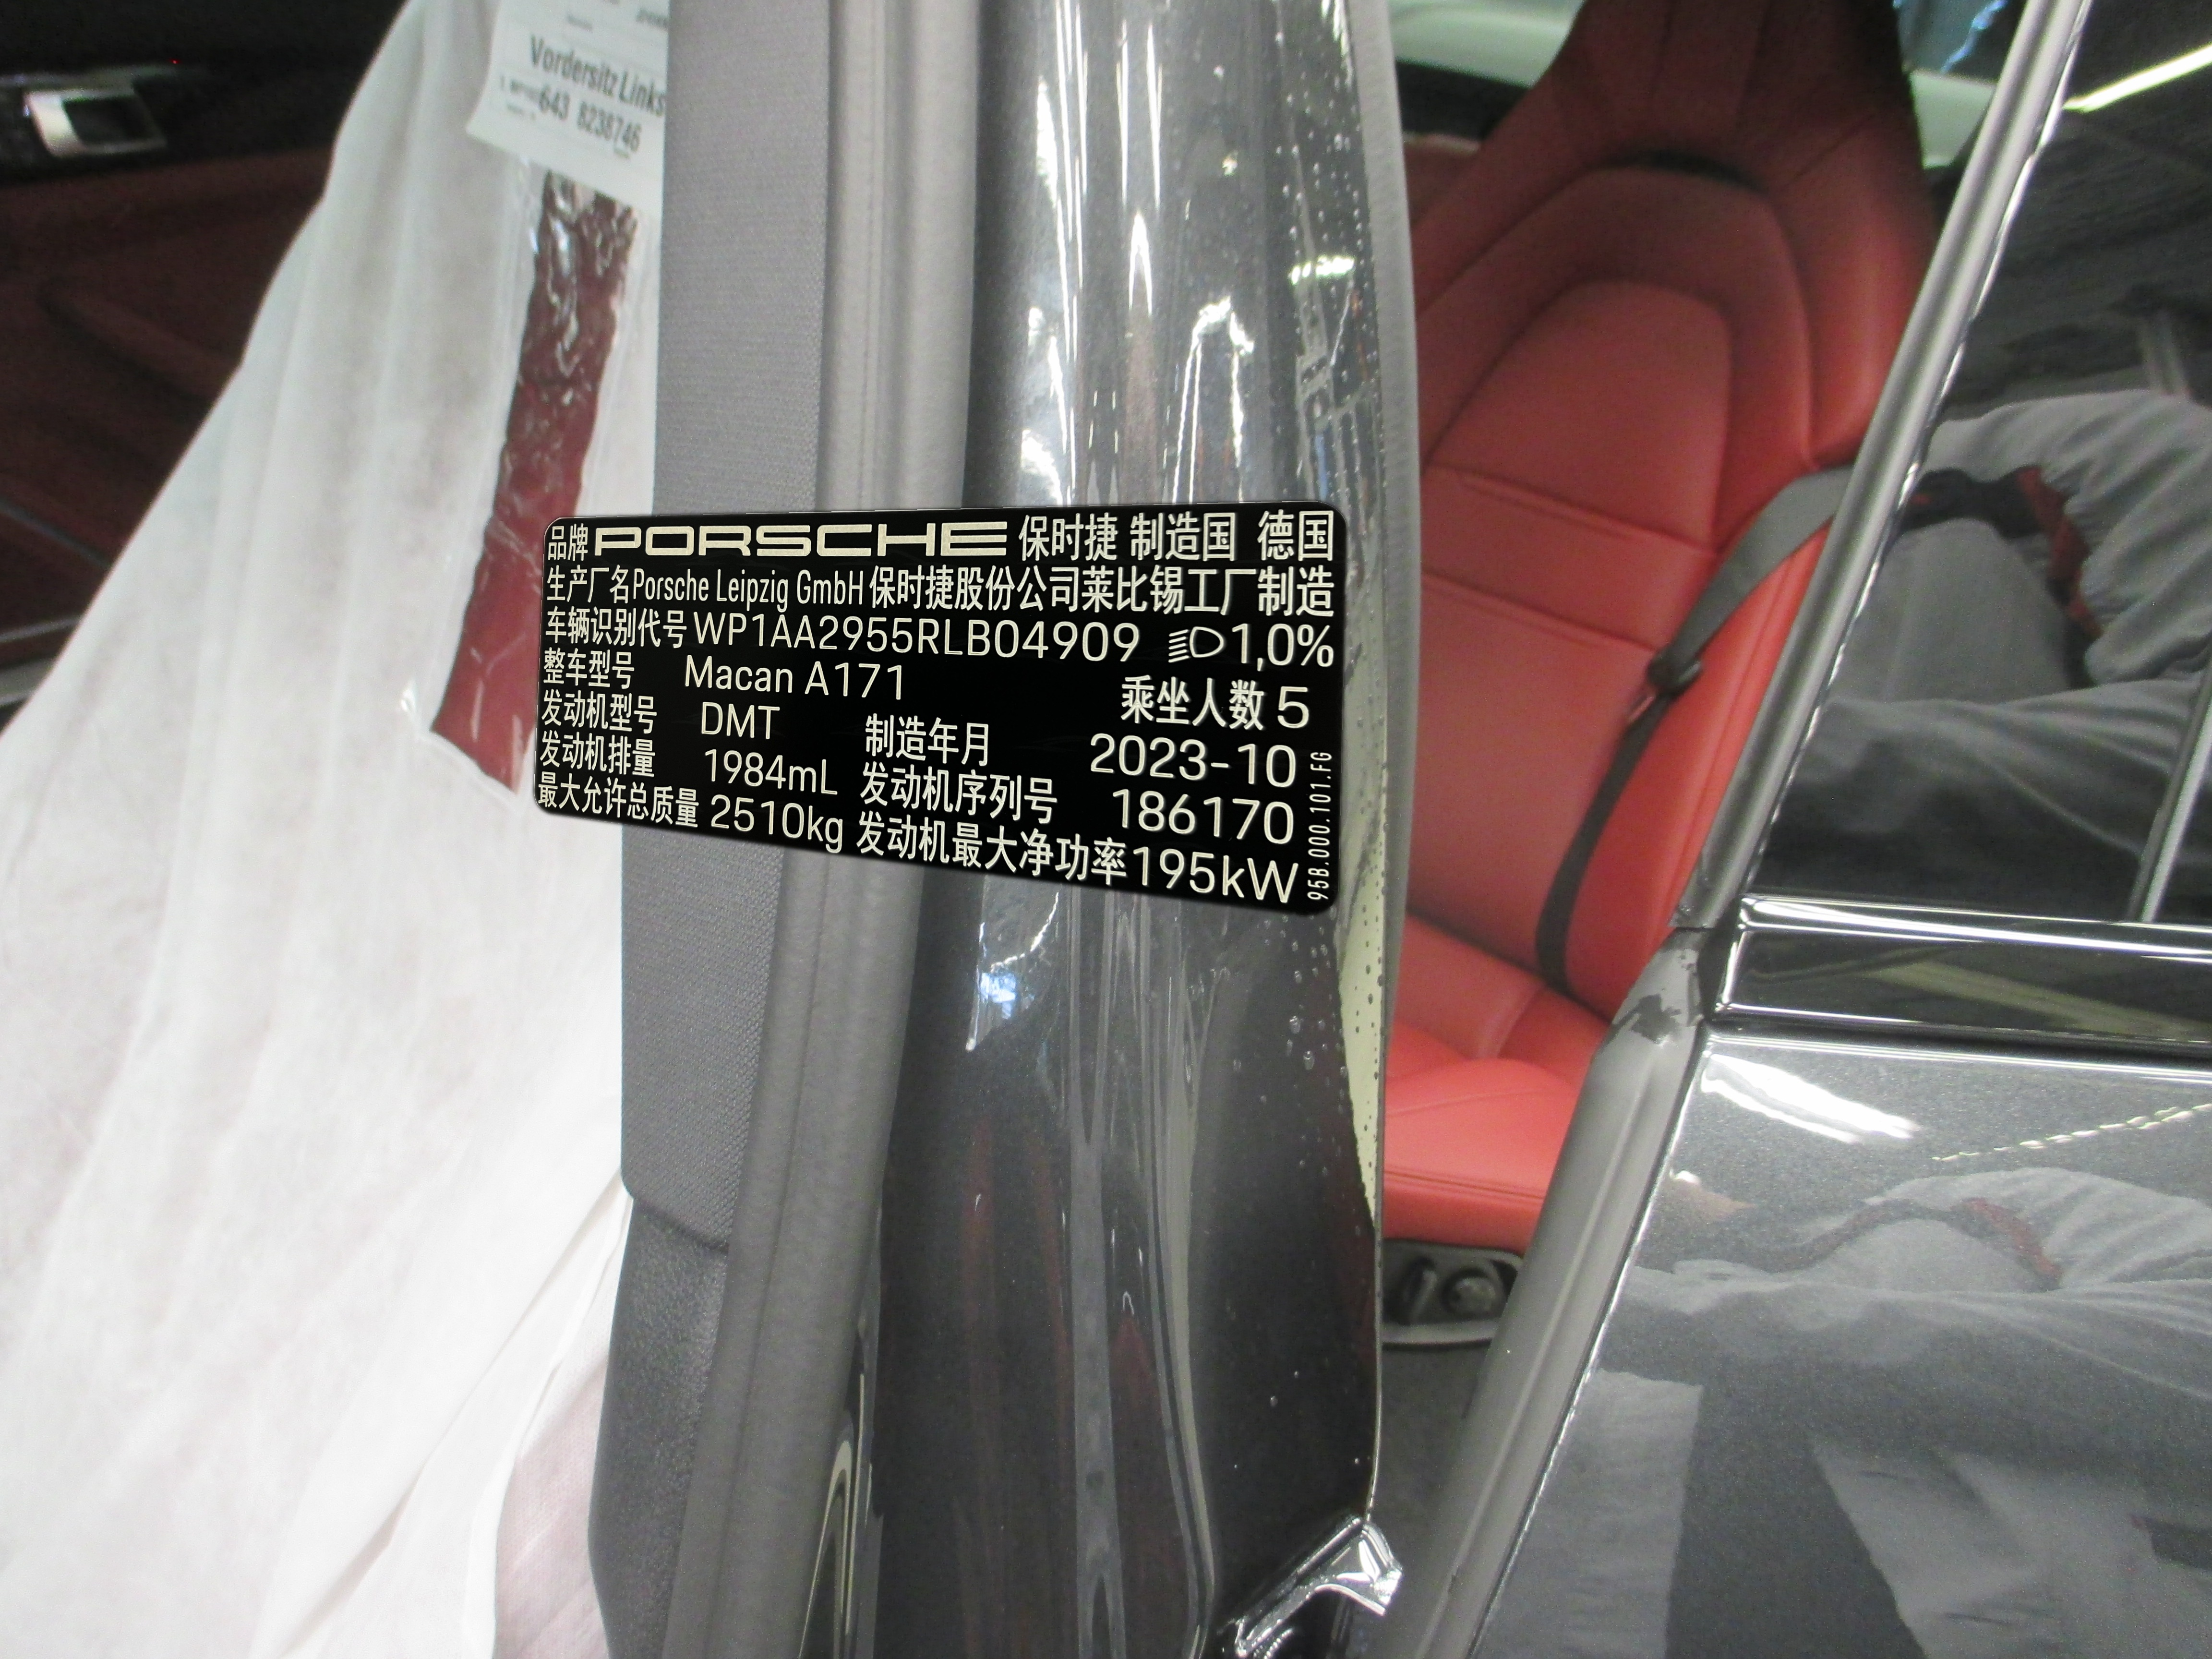Typlabel-China: (533, 500, 1346, 915)
